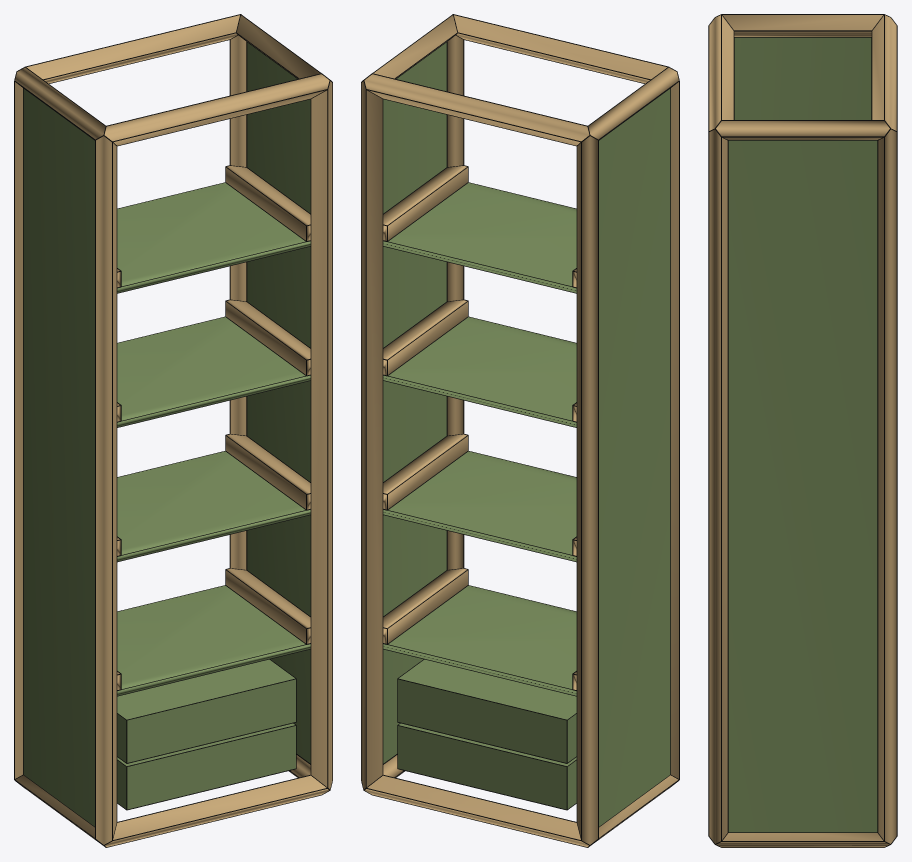
File: 007-dressing-petite.glb
3 renders of one model, left to right at view 1: azimuth 30°, elevation 25°; view 2: azimuth 150°, elevation 25°; view 3: azimuth 270°, elevation 25°, orthographic.
Parts seen in each view (by area): view 1: panneau-joue1, panneau-joue2, arete-Z1, arete-Z0, tablette-plate-mod-0, tablette-plate-mod-1, tablette-plate-mod-2, tablette-plate-mod-3, mod-drawer-1, mod-drawer-0, arete-Z2, arete-X2 (+24 smaller); view 2: panneau-joue1, panneau-joue2, arete-Z3, arete-Z2, tablette-plate-mod-0, tablette-plate-mod-1, tablette-plate-mod-2, tablette-plate-mod-3, mod-drawer-1, mod-drawer-0, arete-Z0, arete-X3 (+24 smaller); view 3: panneau-joue2, arete-Z1, arete-Z3, panneau-joue1, arete-Y2, arete-Y3, panneau-wire-joue2, arete-X2, arete-X3, arete-Y1, arete-wire-Z1, arete-wire-Z3 (+4 smaller).
Boxes of the visible parts, left/top/right/bottom form: panneau-joue1: left=23, top=89, right=94, bottom=826; panneau-joue2: left=247, top=42, right=310, bottom=763; arete-Z1: left=311, top=81, right=332, bottom=789; arete-Z0: left=96, top=136, right=116, bottom=844; tablette-plate-mod-0: left=117, top=585, right=310, bottom=695; tablette-plate-mod-1: left=117, top=451, right=310, bottom=561; tablette-plate-mod-2: left=117, top=317, right=310, bottom=427; tablette-plate-mod-3: left=117, top=182, right=310, bottom=292; mod-drawer-1: left=117, top=659, right=295, bottom=762; mod-drawer-0: left=117, top=723, right=295, bottom=809; arete-Z2: left=15, top=82, right=22, bottom=778; arete-X2: left=104, top=74, right=329, bottom=145; panneau-joue1: left=599, top=89, right=670, bottom=826; panneau-joue2: left=383, top=42, right=446, bottom=763; arete-Z3: left=361, top=81, right=382, bottom=789; arete-Z2: left=577, top=136, right=597, bottom=844; tablette-plate-mod-0: left=383, top=585, right=576, bottom=695; tablette-plate-mod-1: left=383, top=451, right=576, bottom=561; tablette-plate-mod-2: left=383, top=317, right=576, bottom=427; tablette-plate-mod-3: left=383, top=182, right=576, bottom=292; mod-drawer-1: left=398, top=659, right=576, bottom=762; mod-drawer-0: left=398, top=723, right=576, bottom=809; arete-Z0: left=671, top=82, right=678, bottom=778; arete-X3: left=364, top=74, right=589, bottom=145; panneau-joue2: left=728, top=140, right=877, bottom=832; arete-Z1: left=709, top=129, right=727, bottom=843; arete-Z3: left=878, top=129, right=896, bottom=843; panneau-joue1: left=734, top=37, right=871, bottom=119; arete-Y2: left=723, top=15, right=882, bottom=36; arete-Y3: left=716, top=121, right=889, bottom=139; panneau-wire-joue2: left=727, top=140, right=878, bottom=832; arete-X2: left=709, top=15, right=733, bottom=130; arete-X3: left=872, top=15, right=896, bottom=130; arete-Y1: left=716, top=833, right=889, bottom=847; arete-wire-Z1: left=708, top=128, right=727, bottom=841; arete-wire-Z3: left=884, top=132, right=897, bottom=841.
Bounding box in the file's own units: 0.6309 × 1.83 × 0.4309.
